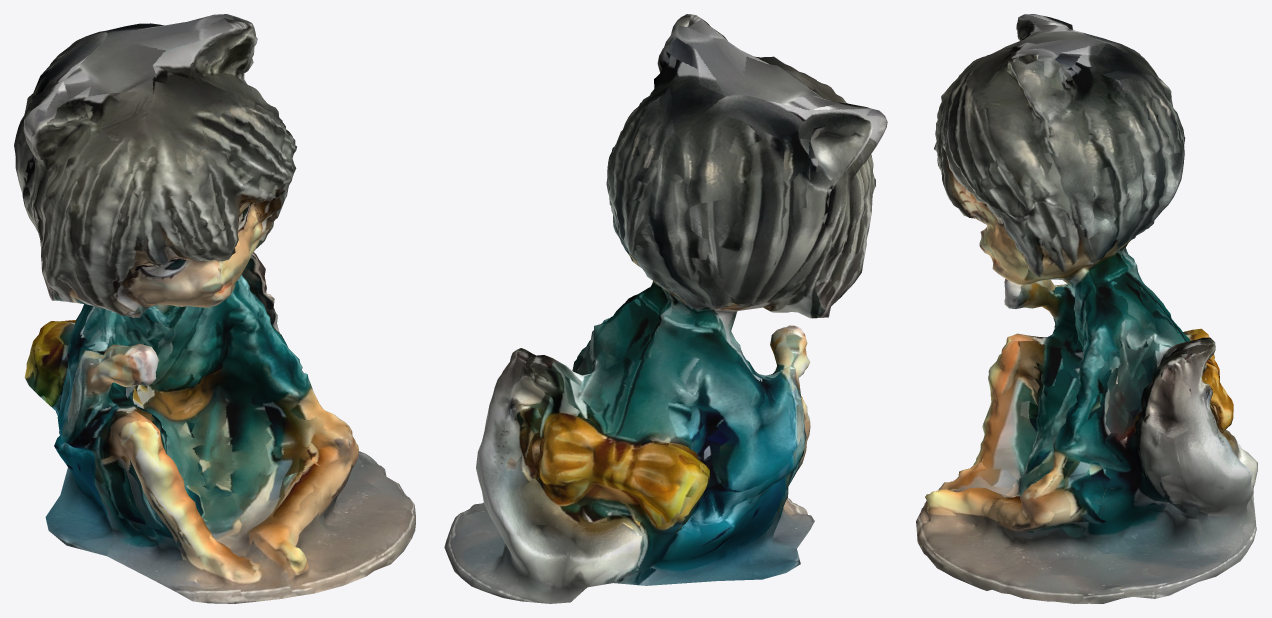
Rendered from baked_mesh.obj.
3 views of the same model, side by side, from view 1: azimuth 30°, elevation 25°; view 2: azimuth 150°, elevation 25°; view 3: azimuth 270°, elevation 25° (orthographic). The views are drawn at different scales.
Visible parts, largest first — view 1: g0; view 2: g0; view 3: g0.
Boxes of the visible parts, x1,y1,x2,y2 form: g0: (14, 14, 415, 603); g0: (444, 14, 887, 603); g0: (916, 14, 1257, 603).
Bounding box in the file's own units: 0.3949 × 0.5113 × 0.3382.
Materials: 1 (1 with a texture image).
